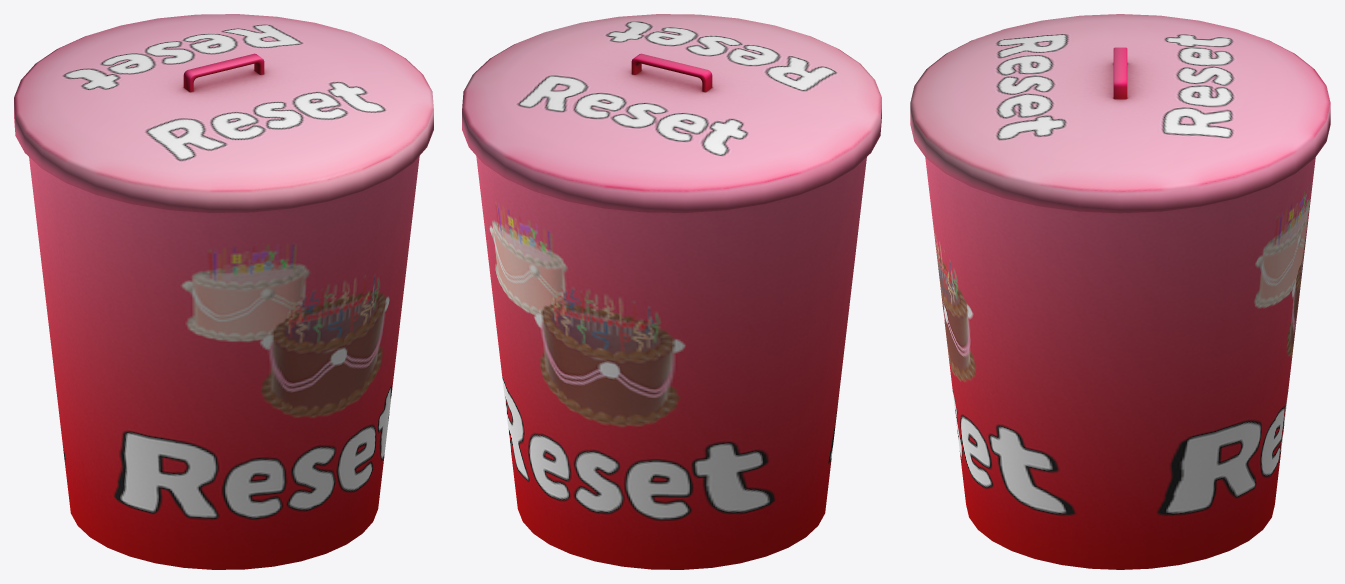
Rendered from Trash Can_Birthday Cake.fbx.
The picture shows the model from 3 angles, left to right: view 1: azimuth 30°, elevation 25°; view 2: azimuth 150°, elevation 25°; view 3: azimuth 270°, elevation 25°; orthographic projection.
Parts seen in each view (by area): view 1: Trash Can; view 2: Trash Can; view 3: Trash Can.
Boxes of the visible parts, left/top/right/bottom form: Trash Can: left=14, top=14, right=433, bottom=569; Trash Can: left=462, top=14, right=881, bottom=569; Trash Can: left=910, top=14, right=1330, bottom=569.
Size of the model in its own units: 0.1383 by 0.1599 by 0.1383.
